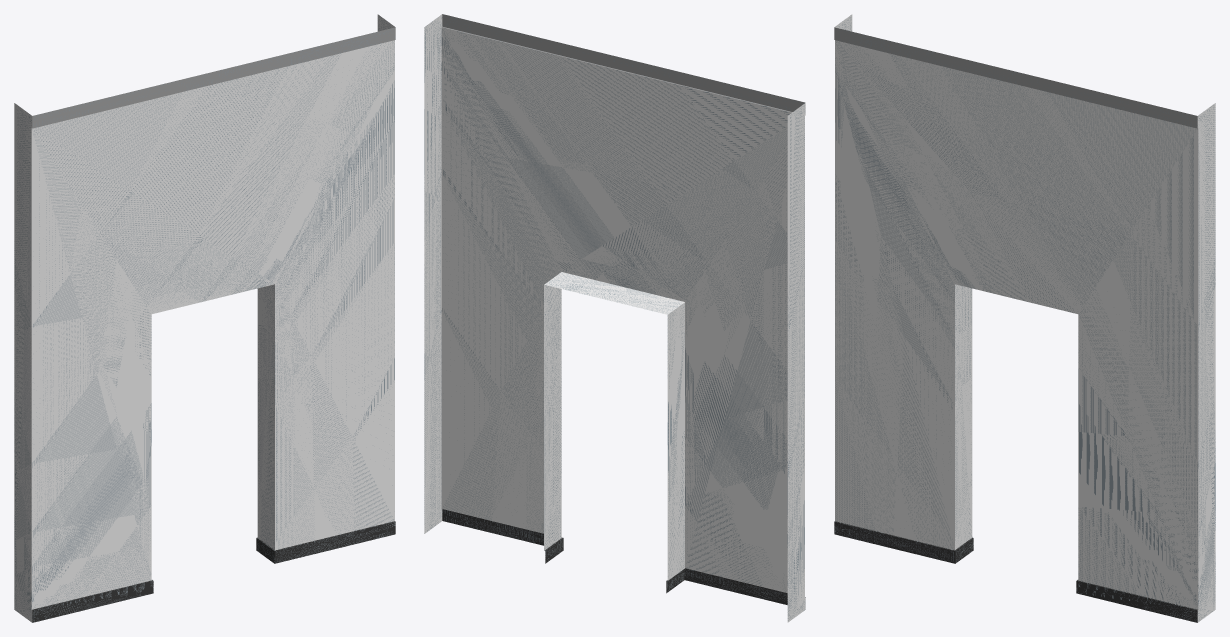
Rendered from BlockWall_os_plinth_[300x400x025]_102x220_doorway.dae.
The picture shows the model from 3 angles, left to right: view 1: azimuth 30°, elevation 25°; view 2: azimuth 150°, elevation 25°; view 3: azimuth 330°, elevation 25°; orthographic projection.
Parts seen in each view (by area): view 1: group_0 (×4); view 2: group_0 (×4); view 3: group_0 (×4).
Part boxes in pixels (x1=…): group_0 (×4): x1=14, y1=14, x2=395, y2=622; group_0 (×4): x1=424, y1=14, x2=805, y2=622; group_0 (×4): x1=834, y1=14, x2=1215, y2=622.
Bounding box in the file's own units: 118 × 10.24 × 157.
